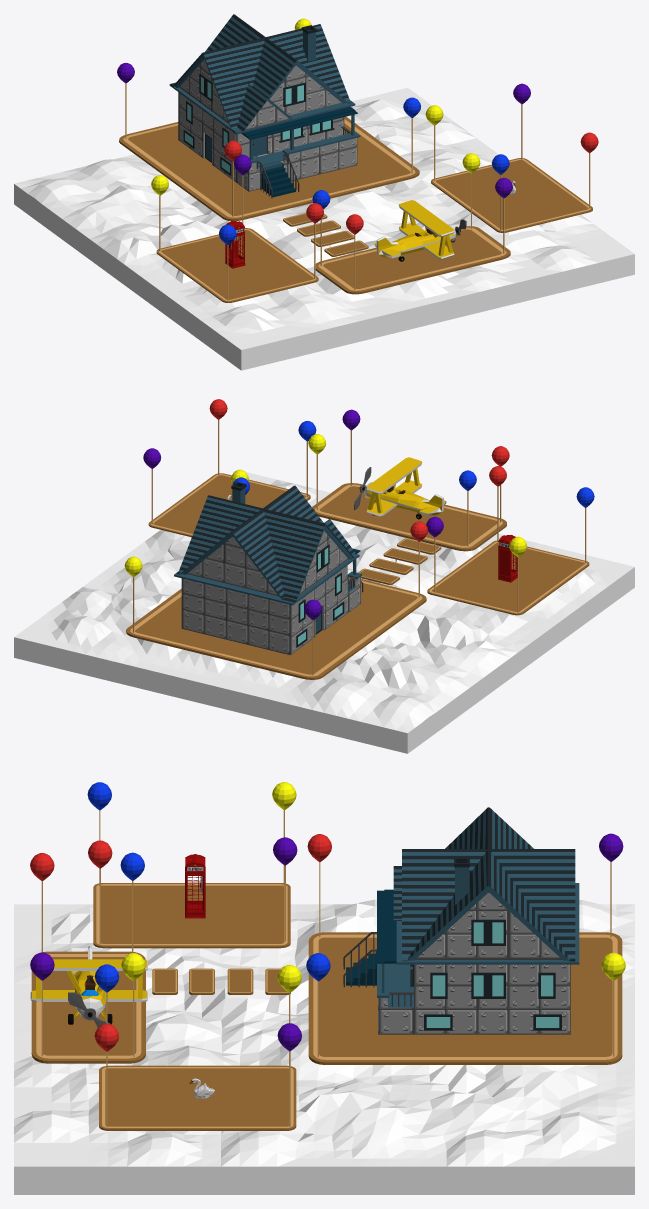
3 views of the same model, one above another, from view 1: azimuth 30°, elevation 25°; view 2: azimuth 150°, elevation 25°; view 3: azimuth 270°, elevation 25° (orthographic). The views are drawn at different scales.
Visible parts, largest first — view 1: Cube.013, Cube.078, VEHICLES_AIRPLANE, OBJRANDOM_PHONEBOOTH; view 2: Cube.013, Cube.078, VEHICLES_AIRPLANE, OBJRANDOM_PHONEBOOTH; view 3: Cube.013, Cube.078, VEHICLES_AIRPLANE, OBJRANDOM_PHONEBOOTH.
Part boxes in pixels (bbox=[...]): Cube.013: bbox=[14, 18, 634, 370]; Cube.078: bbox=[169, 14, 360, 198]; VEHICLES_AIRPLANE: bbox=[374, 200, 466, 261]; OBJRANDOM_PHONEBOOTH: bbox=[225, 221, 245, 268]; Cube.013: bbox=[14, 399, 634, 753]; Cube.078: bbox=[174, 482, 363, 655]; VEHICLES_AIRPLANE: bbox=[354, 457, 446, 519]; OBJRANDOM_PHONEBOOTH: bbox=[498, 535, 517, 582]; Cube.013: bbox=[14, 782, 634, 1194]; Cube.078: bbox=[343, 807, 579, 1034]; VEHICLES_AIRPLANE: bbox=[30, 946, 147, 1027]; OBJRANDOM_PHONEBOOTH: bbox=[185, 854, 205, 918].
Bounding box in the file's own units: 4000 × 1704 × 4000.
Materials: 43 (3 with a texture image).
